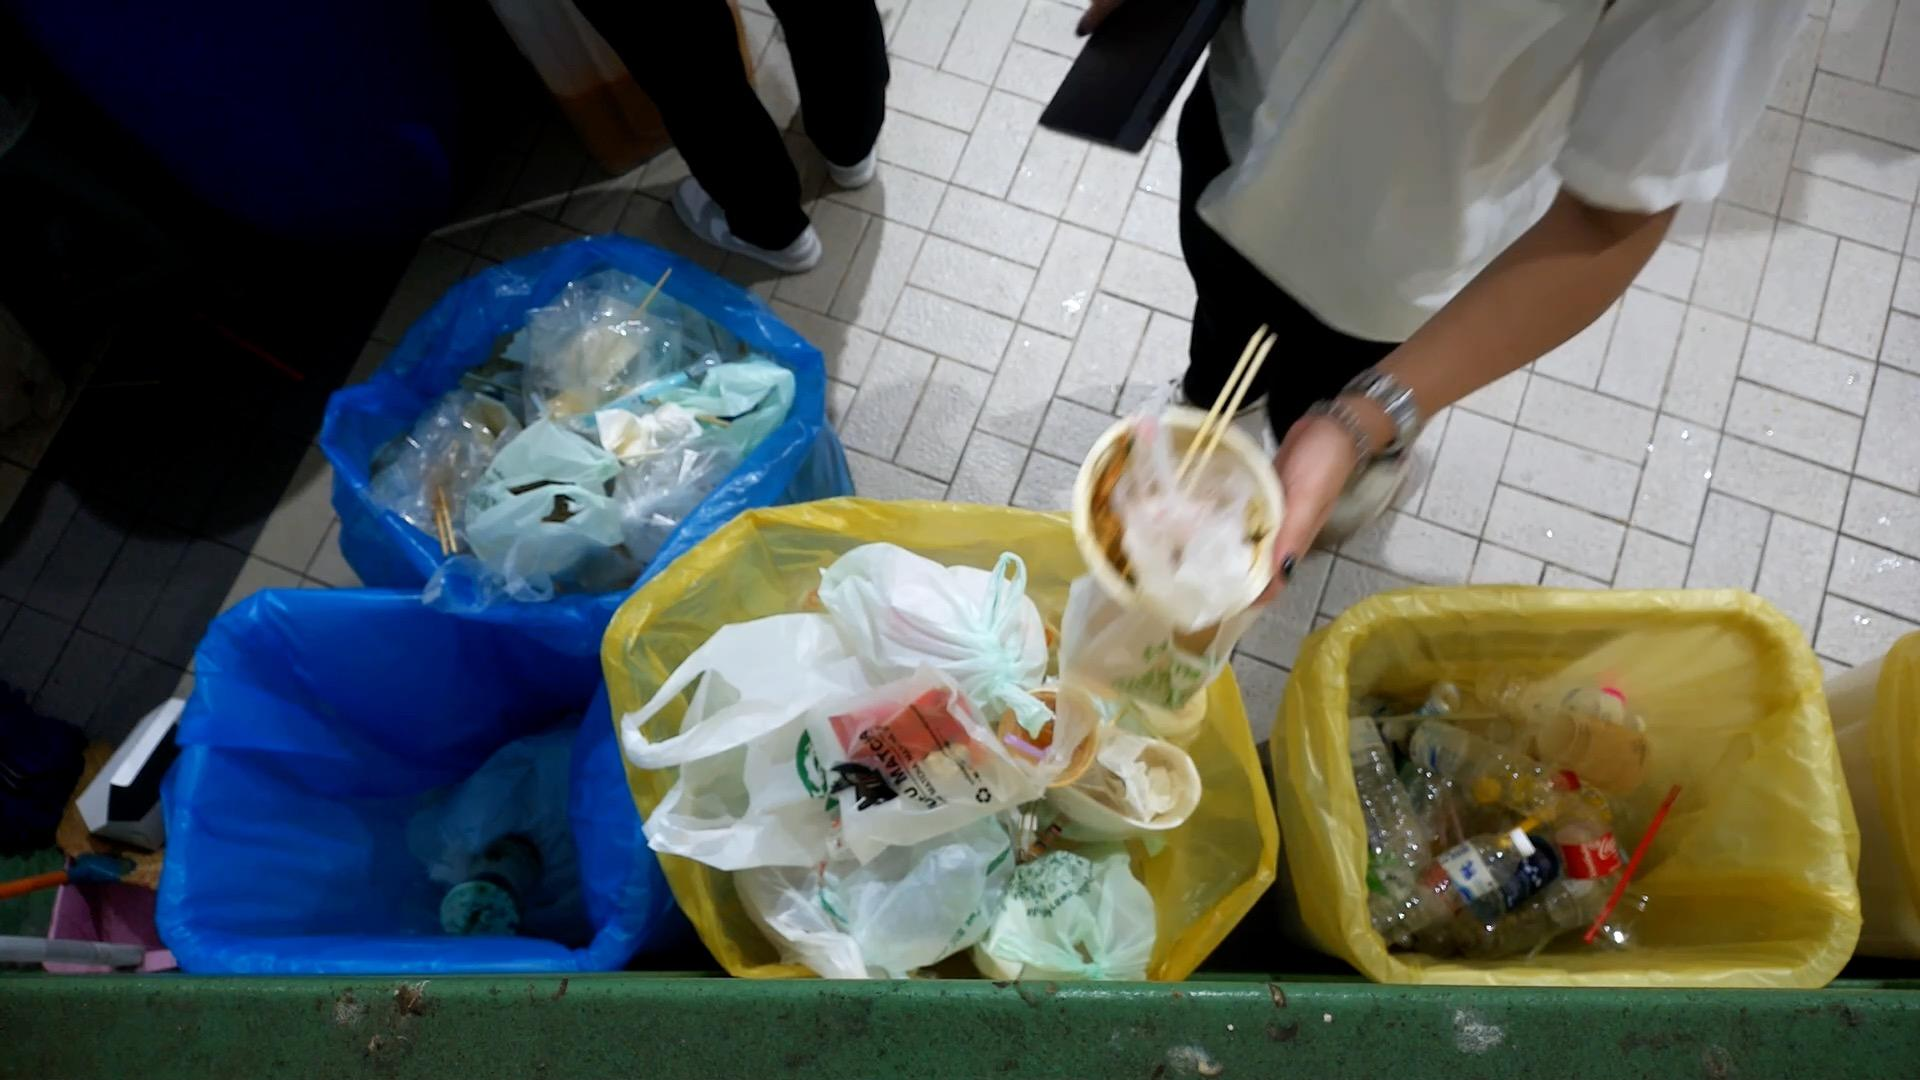dirty food container: (1065, 405, 1295, 632)
filled plastic bag: (620, 599, 873, 894), (807, 673, 1040, 874), (819, 543, 1048, 733), (964, 832, 1159, 1006), (421, 691, 585, 893), (816, 824, 1018, 977), (463, 415, 616, 600), (1052, 707, 1207, 847), (988, 680, 1098, 807)
plastic bag: (526, 274, 679, 431), (625, 427, 742, 560), (360, 396, 484, 514), (683, 342, 810, 442)
plastic bottle: (1385, 716, 1568, 825), (1369, 827, 1536, 942), (1350, 704, 1440, 870), (1474, 654, 1651, 735), (1549, 766, 1629, 926)
plastic cup: (1535, 707, 1689, 814), (438, 828, 547, 940)
sticks: (1171, 319, 1282, 491), (414, 463, 458, 535)
straw: (1584, 783, 1683, 943)
tissue paper: (1114, 427, 1253, 629), (589, 401, 700, 456)
